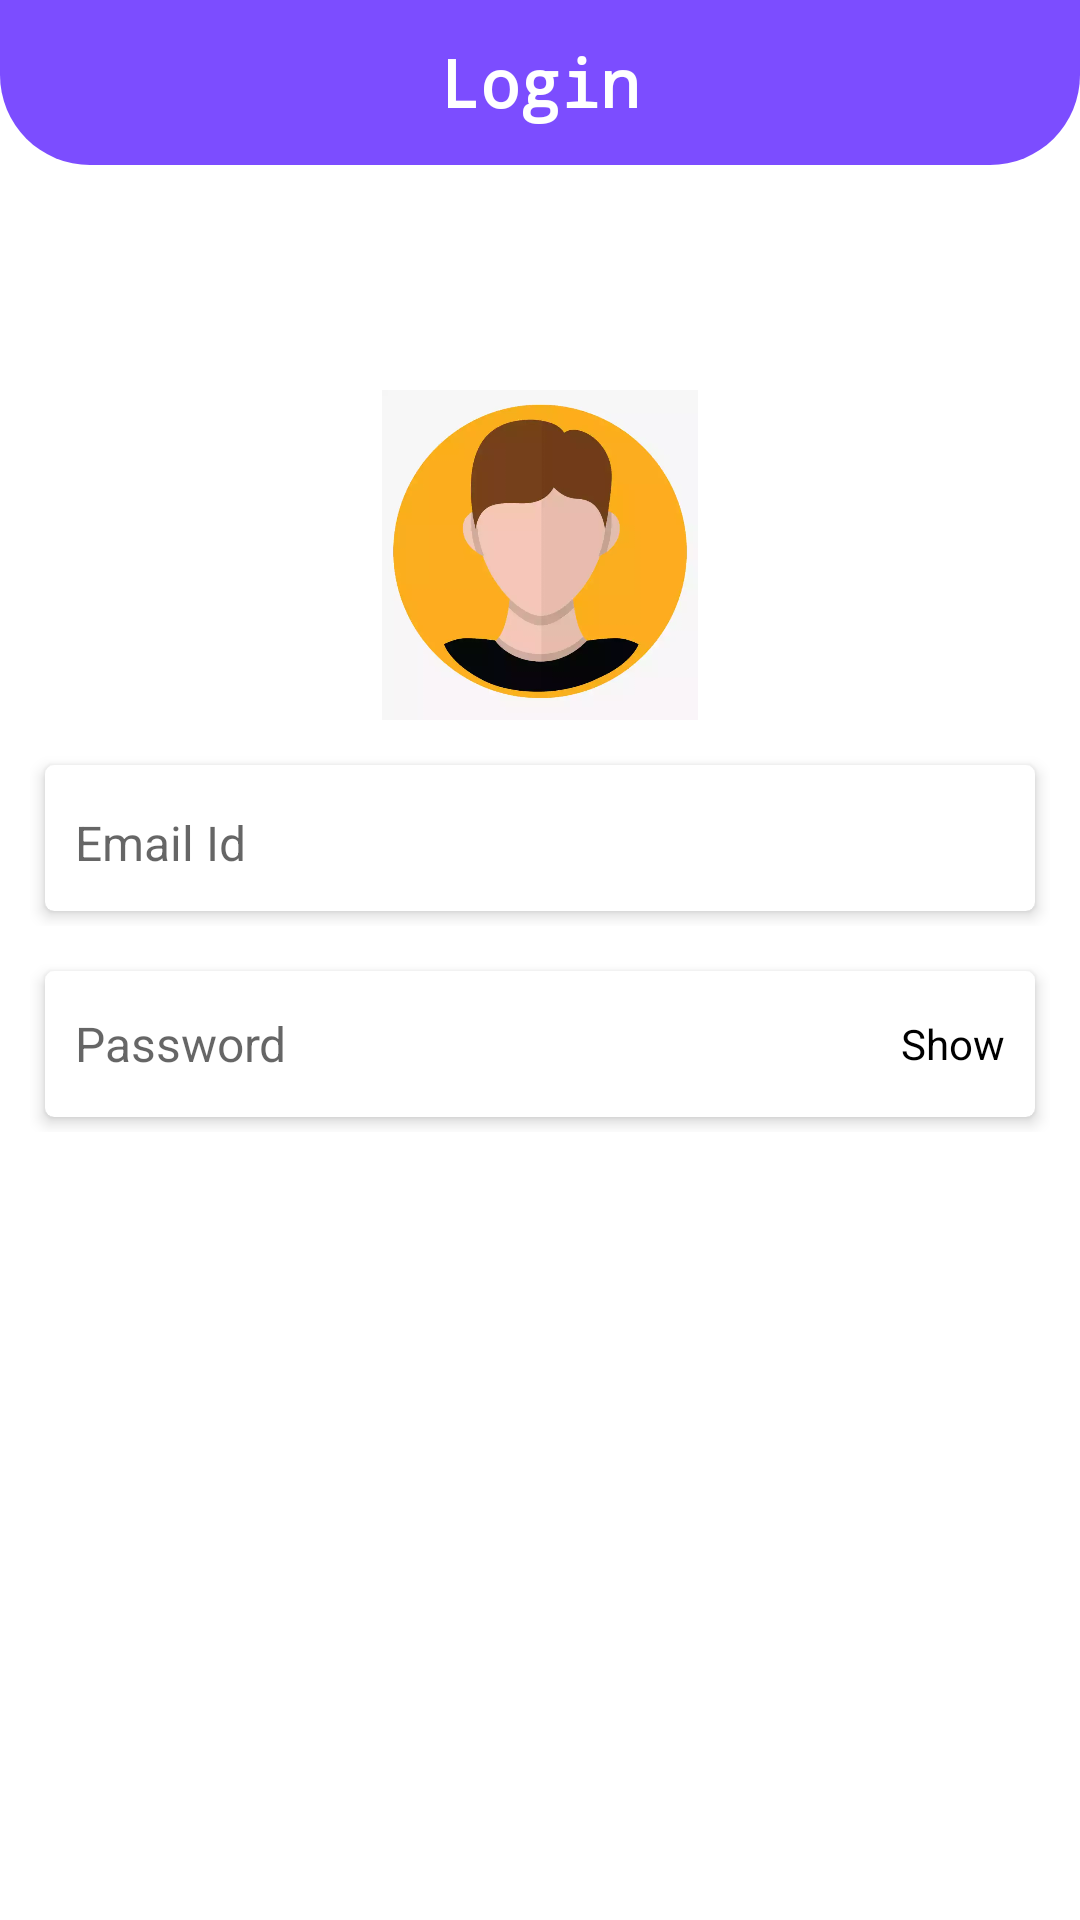

Where icons sit on this 1080x1920 app screen, as [x1, y1, x2, y2]:
avatarprofile: [393, 404, 687, 698]
